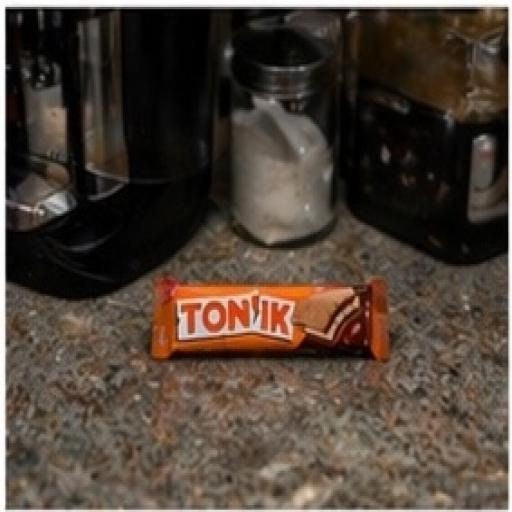tonik: (124, 236, 440, 432)
